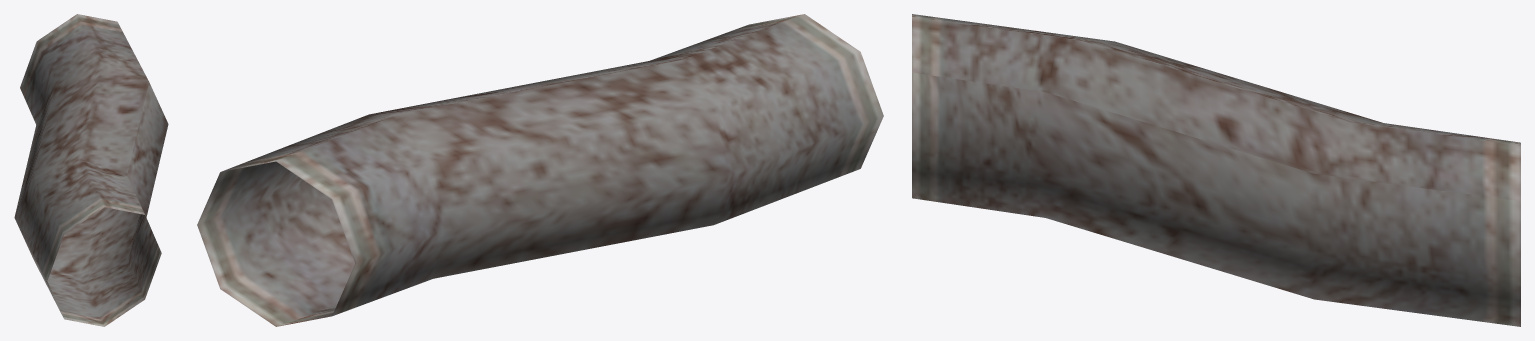
Rendered from Venting3.fbx.
The picture shows the model from 3 angles, left to right: view 1: azimuth 30°, elevation 25°; view 2: azimuth 150°, elevation 25°; view 3: azimuth 270°, elevation 25°; orthographic projection. The views are drawn at different scales.
Visible parts, largest first — view 1: Venting3; view 2: Venting3; view 3: Venting3.
Boxes of the visible parts, x1,y1,x2,y2 form: Venting3: (14,14,168,326); Venting3: (197,14,883,326); Venting3: (912,14,1520,326).
Size of the model in its own units: 164 by 64.44 by 200.
